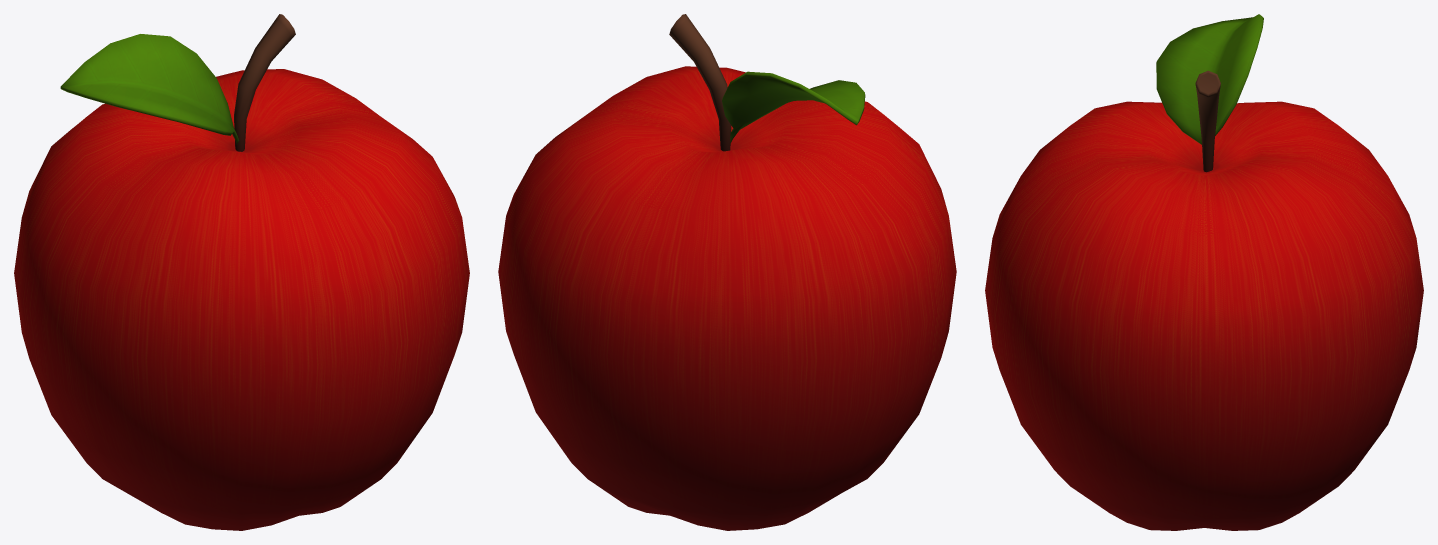
File: apple-CGoB8D_3.glb
The picture shows the model from 3 angles, left to right: view 1: azimuth 30°, elevation 25°; view 2: azimuth 150°, elevation 25°; view 3: azimuth 270°, elevation 25°; orthographic projection. The views are drawn at different scales.
Visible parts, largest first — view 1: Apple; view 2: Apple; view 3: Apple.
Part boxes in pixels (x1=…): Apple: x1=14, y1=14, x2=469, y2=530; Apple: x1=498, y1=14, x2=956, y2=530; Apple: x1=985, y1=14, x2=1423, y2=530.
Size of the model in its own units: 79.89 by 91.12 by 79.89.
Materials: 1 (1 with a texture image).
